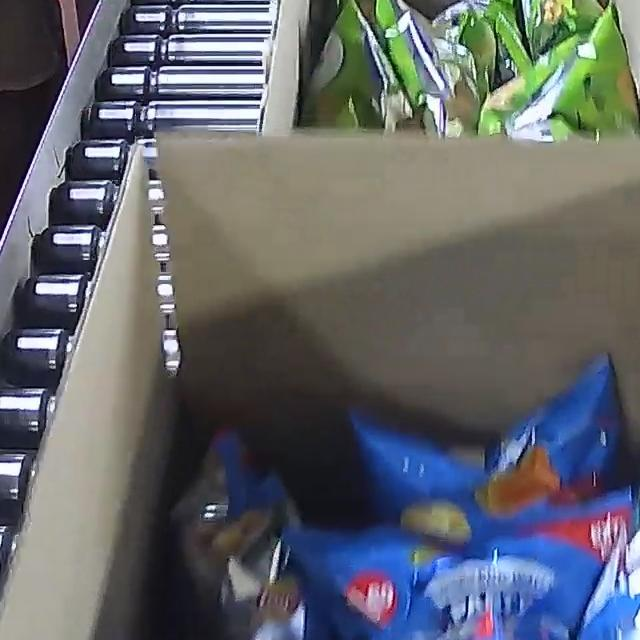paprika: (119, 350, 640, 640)
yogurt: (301, 0, 640, 142)
